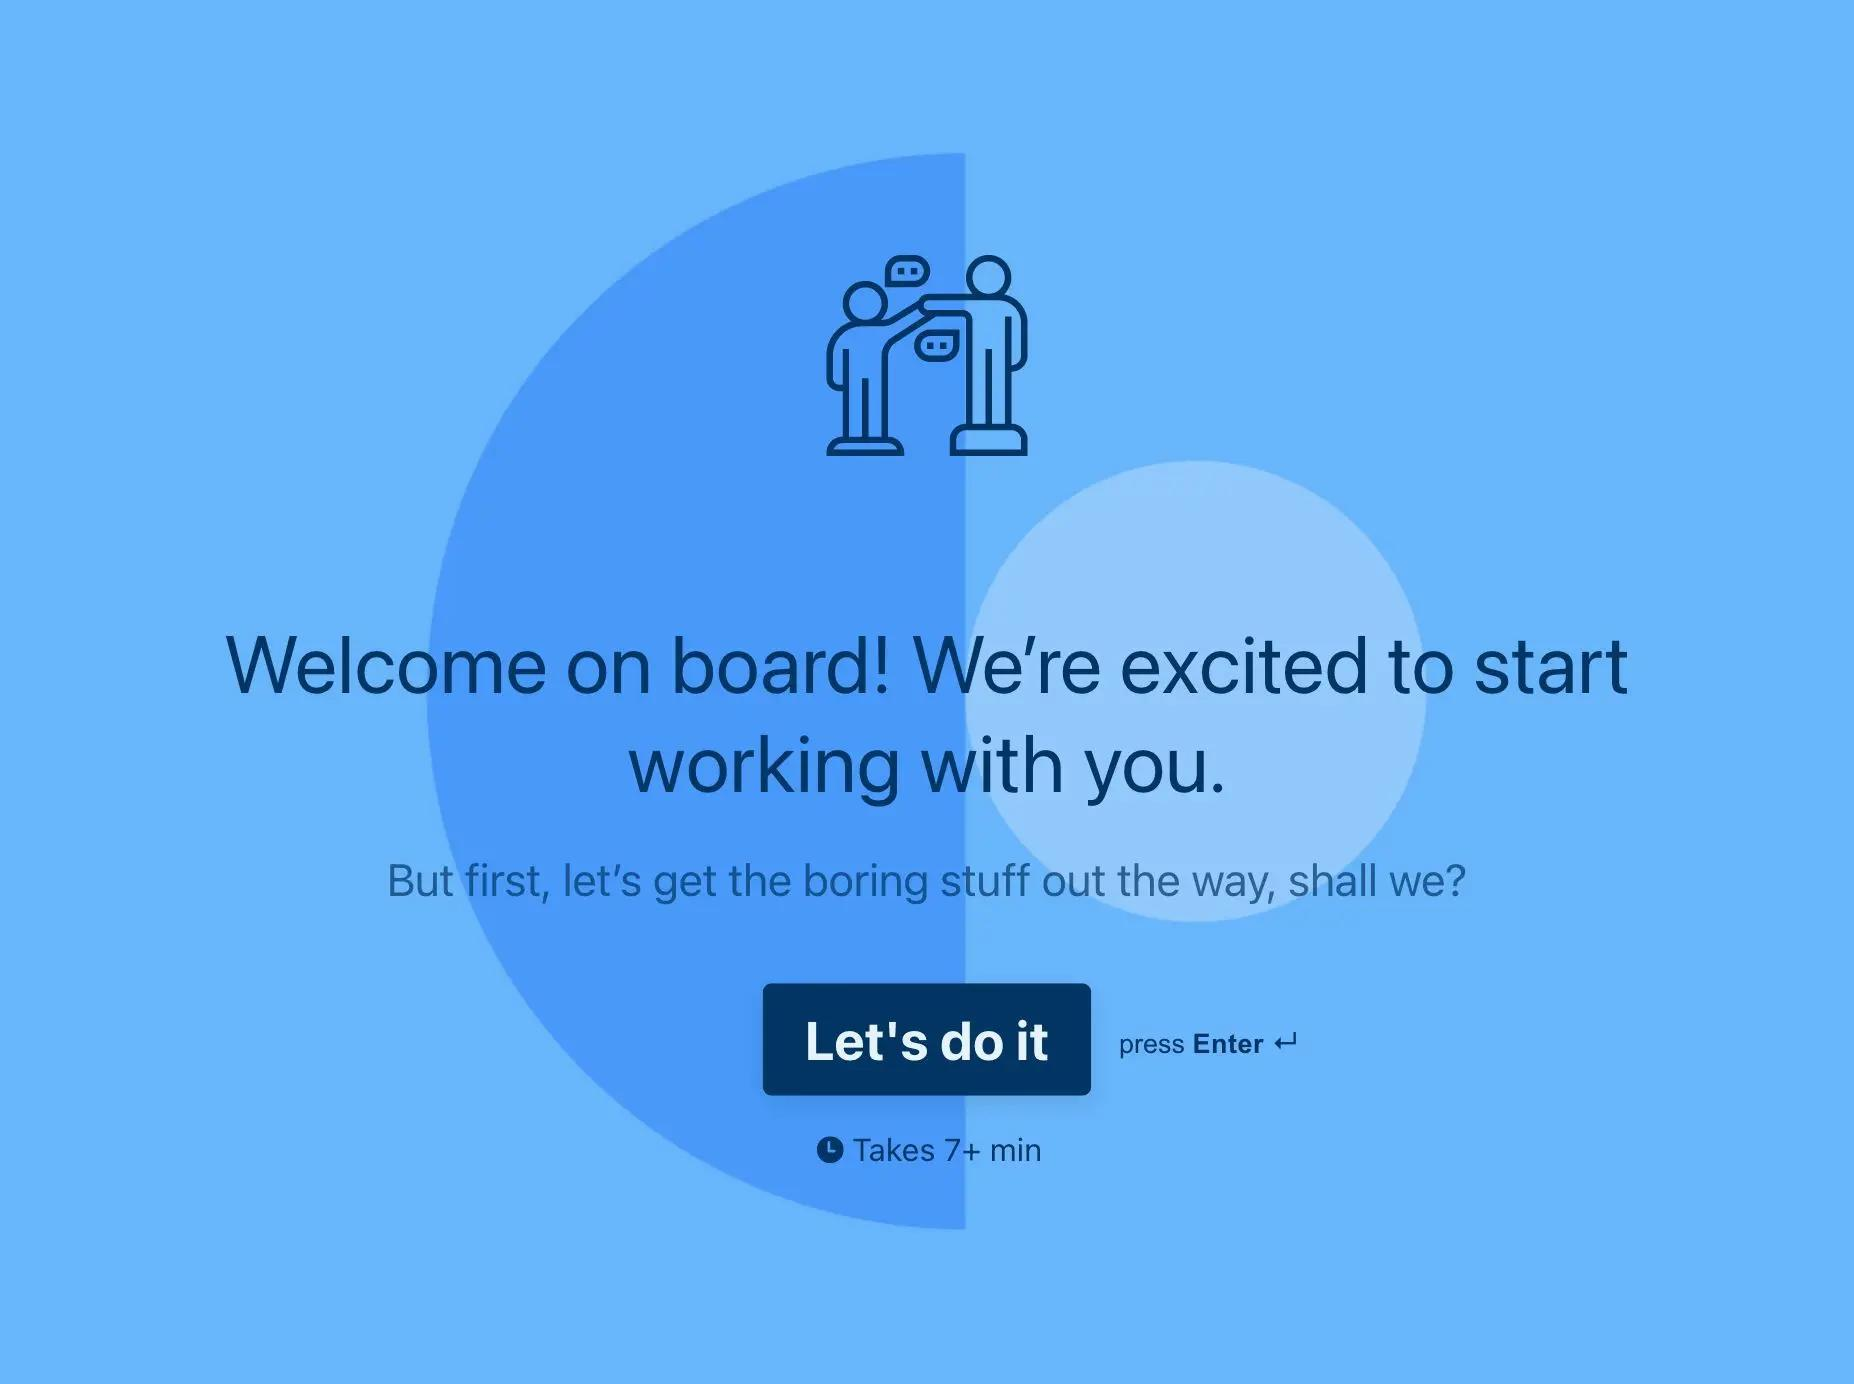button: (763, 983, 1096, 1099)
